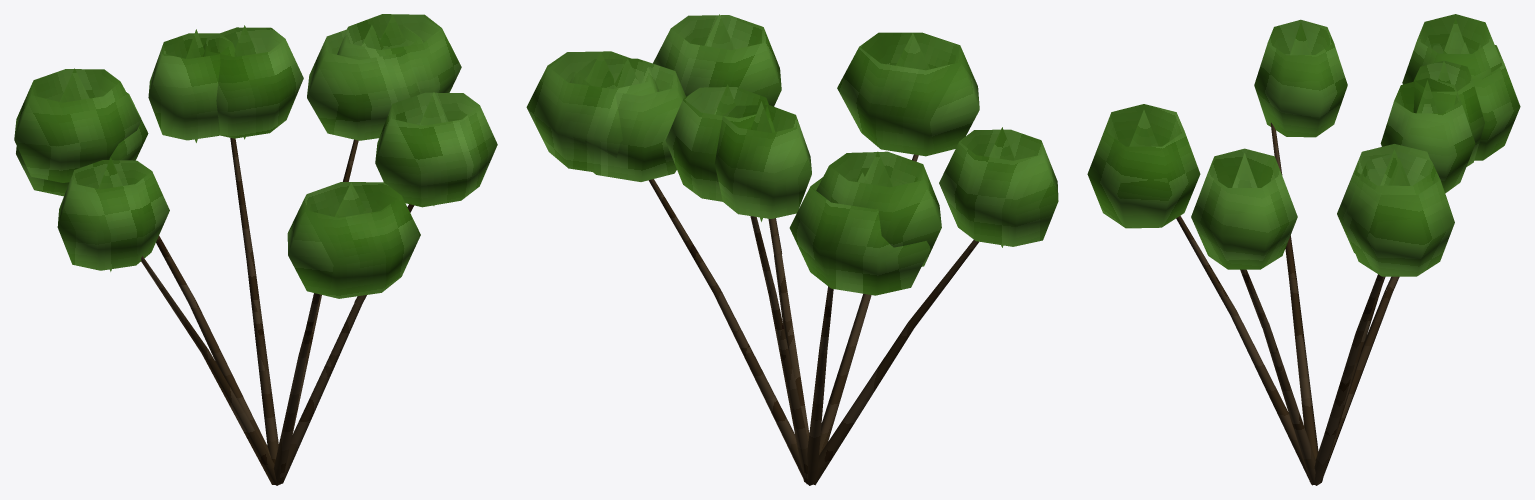
The model's file is filbert_big01-lod1.glb.
3 renders of one model, left to right at view 1: azimuth 30°, elevation 25°; view 2: azimuth 150°, elevation 25°; view 3: azimuth 270°, elevation 25°, orthographic. The views are drawn at different scales.
Parts seen in each view (by area): view 1: TZ_filbert_shrub_Batch_00_LOD1, TZ_filbert_shrub_Batch_01_LOD1; view 2: TZ_filbert_shrub_Batch_00_LOD1, TZ_filbert_shrub_Batch_01_LOD1; view 3: TZ_filbert_shrub_Batch_00_LOD1, TZ_filbert_shrub_Batch_01_LOD1.
Part boxes in pixels (bbox=[...]): TZ_filbert_shrub_Batch_00_LOD1: bbox=[14, 14, 497, 298]; TZ_filbert_shrub_Batch_01_LOD1: bbox=[141, 138, 414, 485]; TZ_filbert_shrub_Batch_00_LOD1: bbox=[526, 14, 1058, 295]; TZ_filbert_shrub_Batch_01_LOD1: bbox=[648, 154, 978, 485]; TZ_filbert_shrub_Batch_00_LOD1: bbox=[1087, 14, 1520, 276]; TZ_filbert_shrub_Batch_01_LOD1: bbox=[1176, 122, 1399, 485].
Size of the model in its own units: 2.74 by 2.45 by 2.31.
2 materials, 2 textured.
